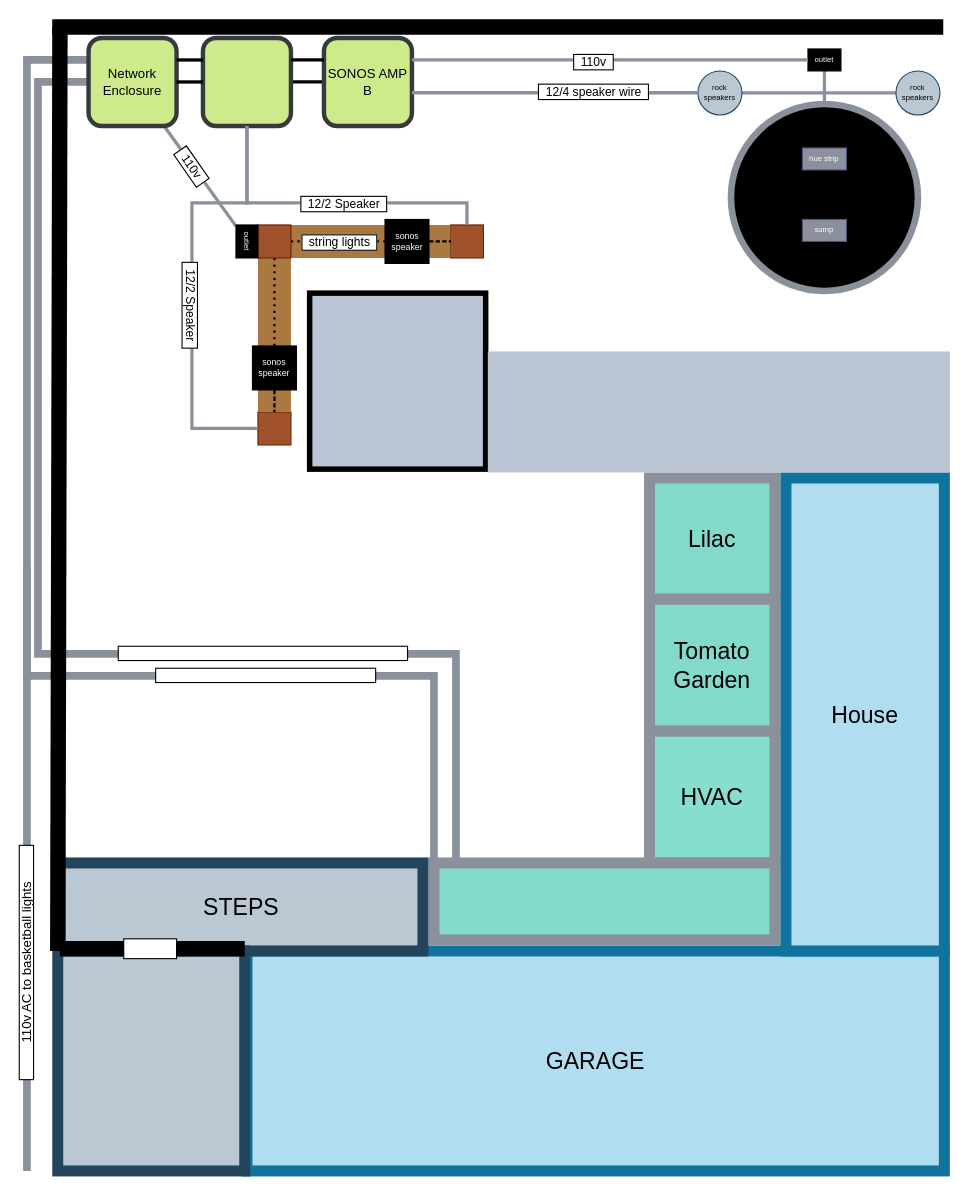
This 971x1195 diagram has some shape labels left out. The shapes that lost their labels are listed below. From the top down, each one's box as (x1, y1, x2, y2) in pixels, then its label:
(200, 35, 293, 128): SONOS AMP A
(727, 100, 921, 294): TRAMPOLINE
(306, 290, 488, 471): Fire Pit
(487, 351, 949, 472): Patio
(117, 645, 408, 661): 2xCAT6 & 1x Pull String in conduit
(155, 667, 376, 683): 110v AC in c onduit
(428, 857, 780, 945): RASPBERRY BUSH
(123, 938, 177, 959): gate
(52, 945, 250, 1176): WALK
